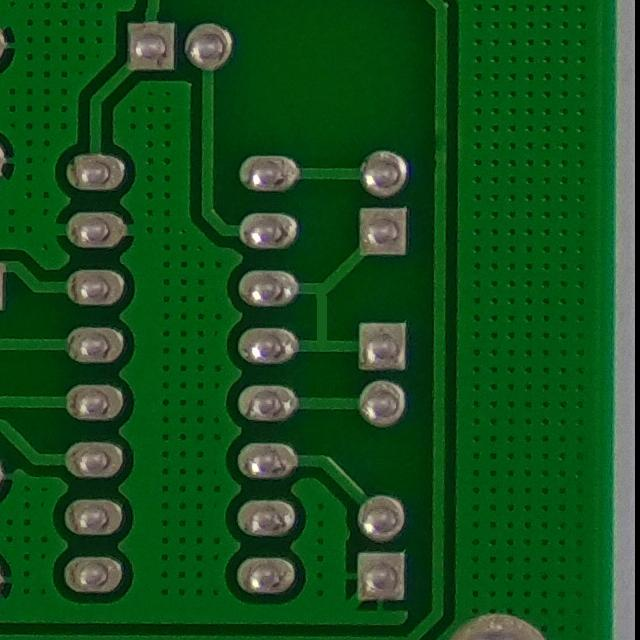short: (278, 278, 362, 362)
